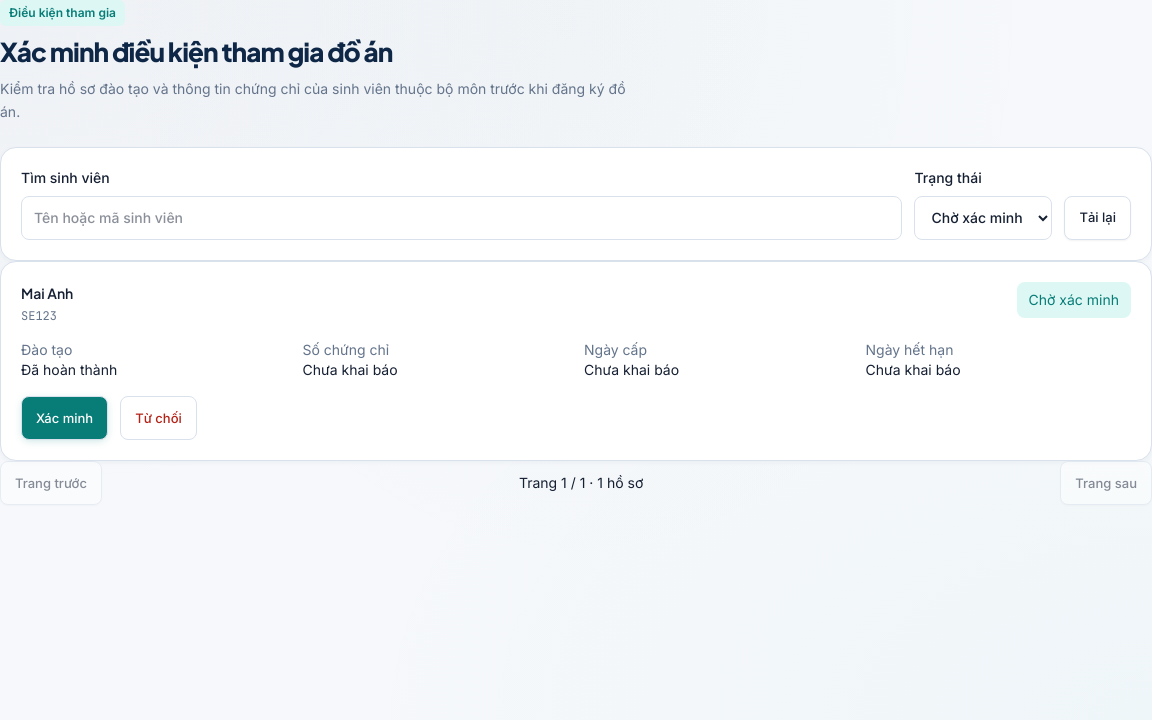
Test: Qualification confirmation › cancels without writing to BE
The image size is (1152, 720).
Step 1. Click the button "Xác minh" → click(65, 418), box top-left (21, 396), bottom-right (108, 440)
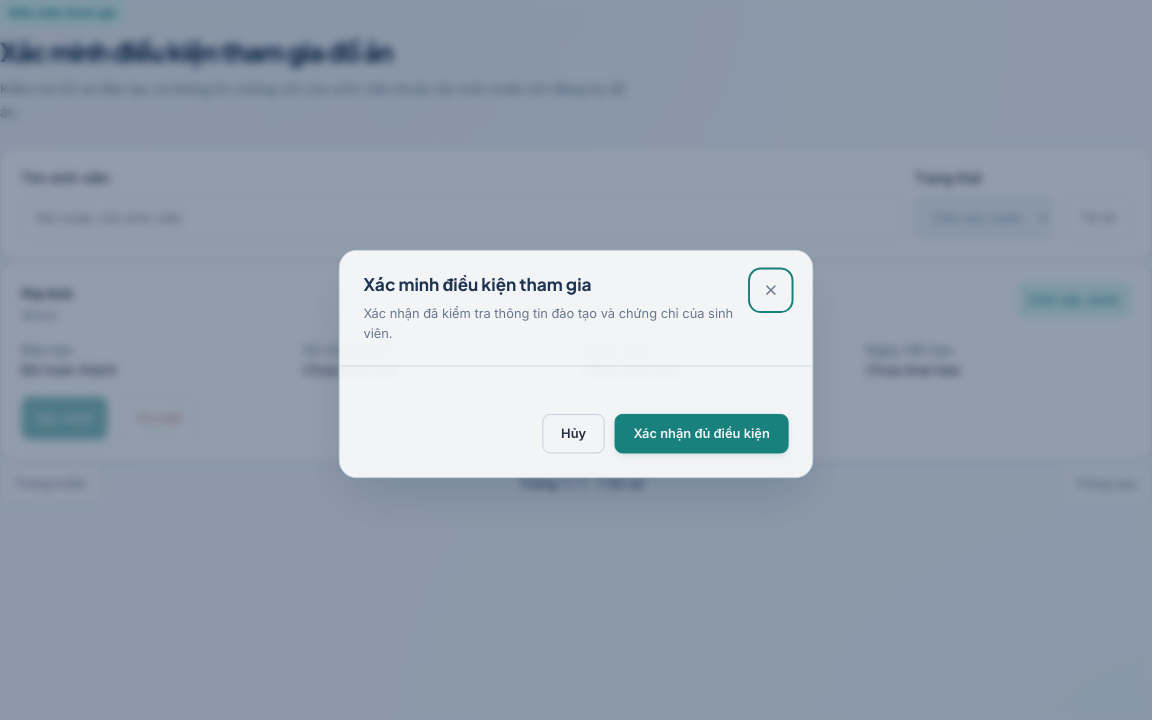
Step 2. Click the button "Hủy" → click(574, 431), box top-left (542, 411), bottom-right (605, 451)
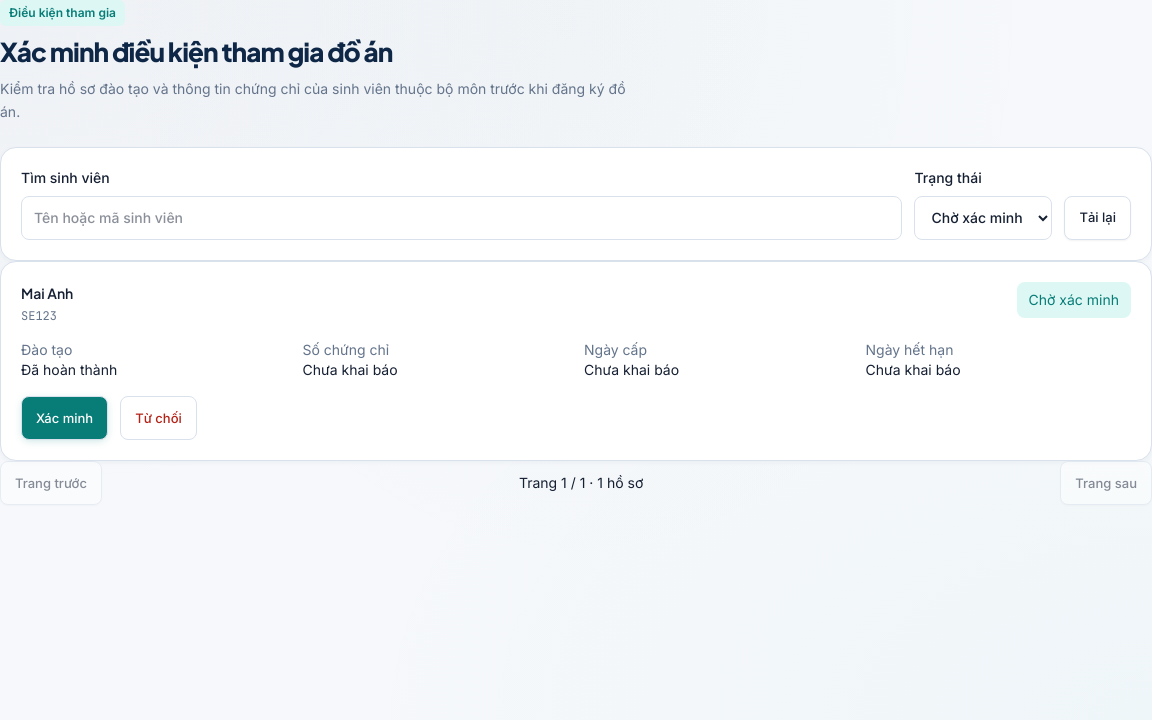
Now the dialog is gone
